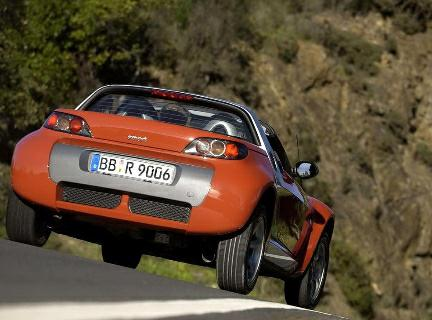smart-roadster: (1, 85, 358, 299)
